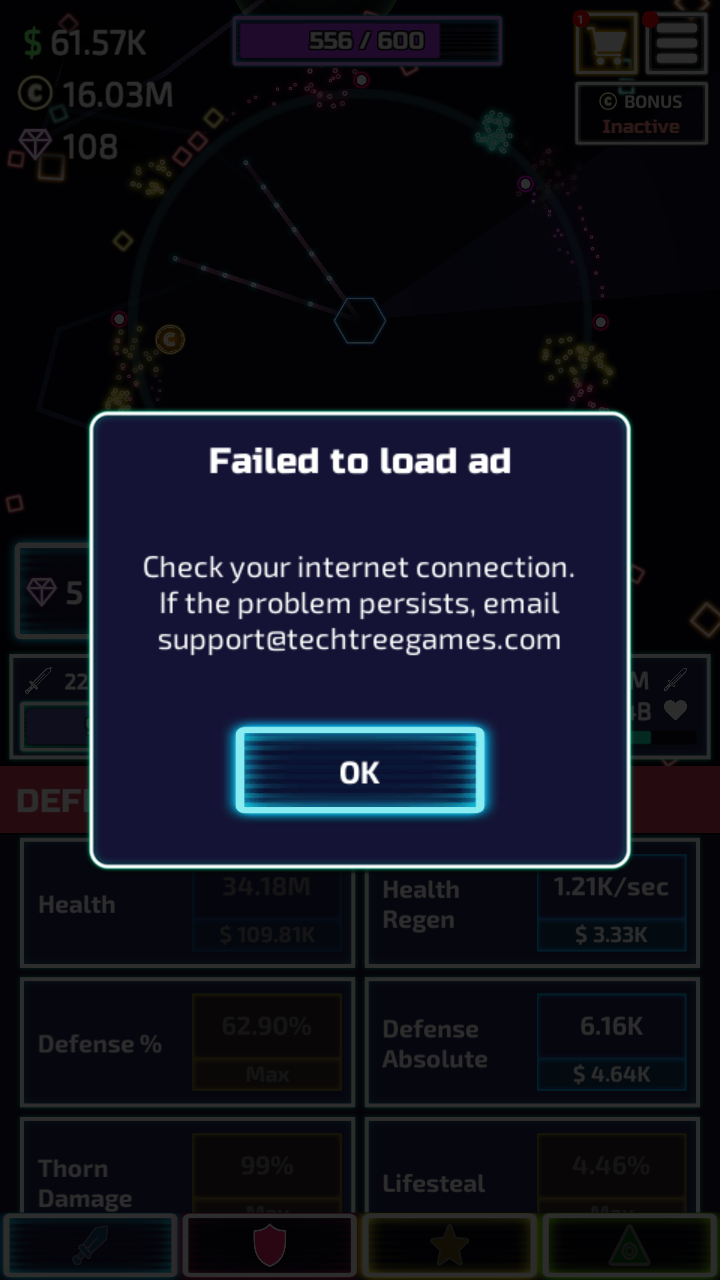B_Failed_To_Load_Ad_Ok: (226, 717, 492, 820)
B_Gem_Ad: (11, 542, 92, 640)
B_Menu_Action_Required: (637, 5, 707, 71)
B_Menu_Closed: (573, 15, 708, 72)
B_Shop_Action_Required: (570, 12, 643, 75)
B_Slot: (19, 841, 355, 966), (20, 981, 355, 1106), (366, 980, 698, 1105), (369, 846, 697, 962), (363, 1120, 697, 1211), (21, 1121, 348, 1213)
B_Slot_Button: (184, 865, 350, 961), (188, 997, 345, 1097), (531, 997, 688, 1095), (528, 858, 687, 953), (534, 1135, 688, 1211), (189, 1134, 340, 1211)
B_Slot_Label: (369, 1010, 502, 1081), (25, 1153, 148, 1215), (372, 867, 476, 937), (25, 1020, 173, 1068), (368, 1161, 505, 1206), (24, 881, 127, 926)
B_Slot_Maxed: (186, 994, 341, 1098), (533, 1136, 690, 1210), (188, 1136, 340, 1211)
B_Slot_Price: (202, 914, 333, 958), (557, 1056, 660, 1092), (557, 917, 656, 951)
B_Slot_Value: (536, 866, 675, 903), (553, 1145, 664, 1184), (206, 863, 321, 899), (207, 1007, 322, 1042), (554, 1006, 657, 1044), (212, 1149, 308, 1184)
B_Tab_Defense: (629, 768, 720, 835), (6, 771, 91, 830)
